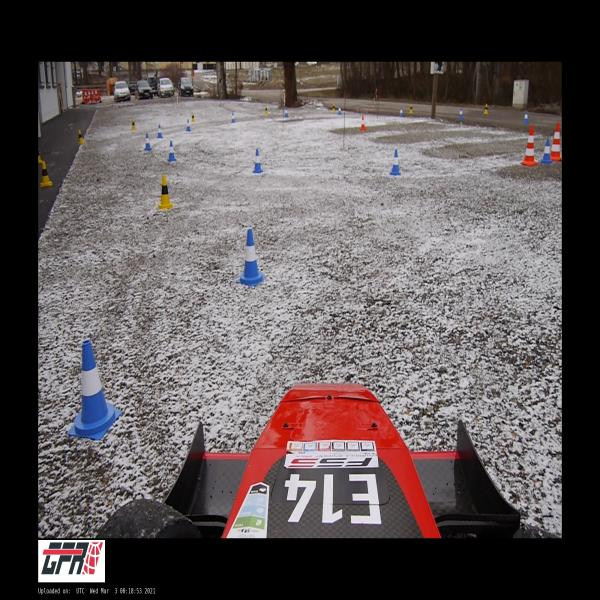blue_cone: (68, 340, 122, 440), (236, 228, 266, 282), (390, 150, 401, 175), (541, 139, 552, 164), (253, 149, 263, 173), (168, 141, 176, 161), (144, 134, 152, 150), (157, 124, 163, 138), (186, 119, 191, 131), (524, 112, 528, 124), (231, 113, 235, 123), (459, 108, 463, 118), (399, 108, 403, 117), (285, 108, 288, 118), (339, 106, 341, 115)
large_orange_cone: (520, 124, 538, 166), (550, 122, 562, 161)
orange_cone: (360, 115, 366, 130)
yellow_cone: (158, 175, 173, 209), (40, 162, 53, 187), (78, 130, 84, 144), (38, 148, 42, 163), (132, 118, 136, 130), (409, 104, 413, 114), (484, 104, 488, 114), (332, 103, 335, 112), (192, 113, 194, 122), (265, 106, 267, 115)
